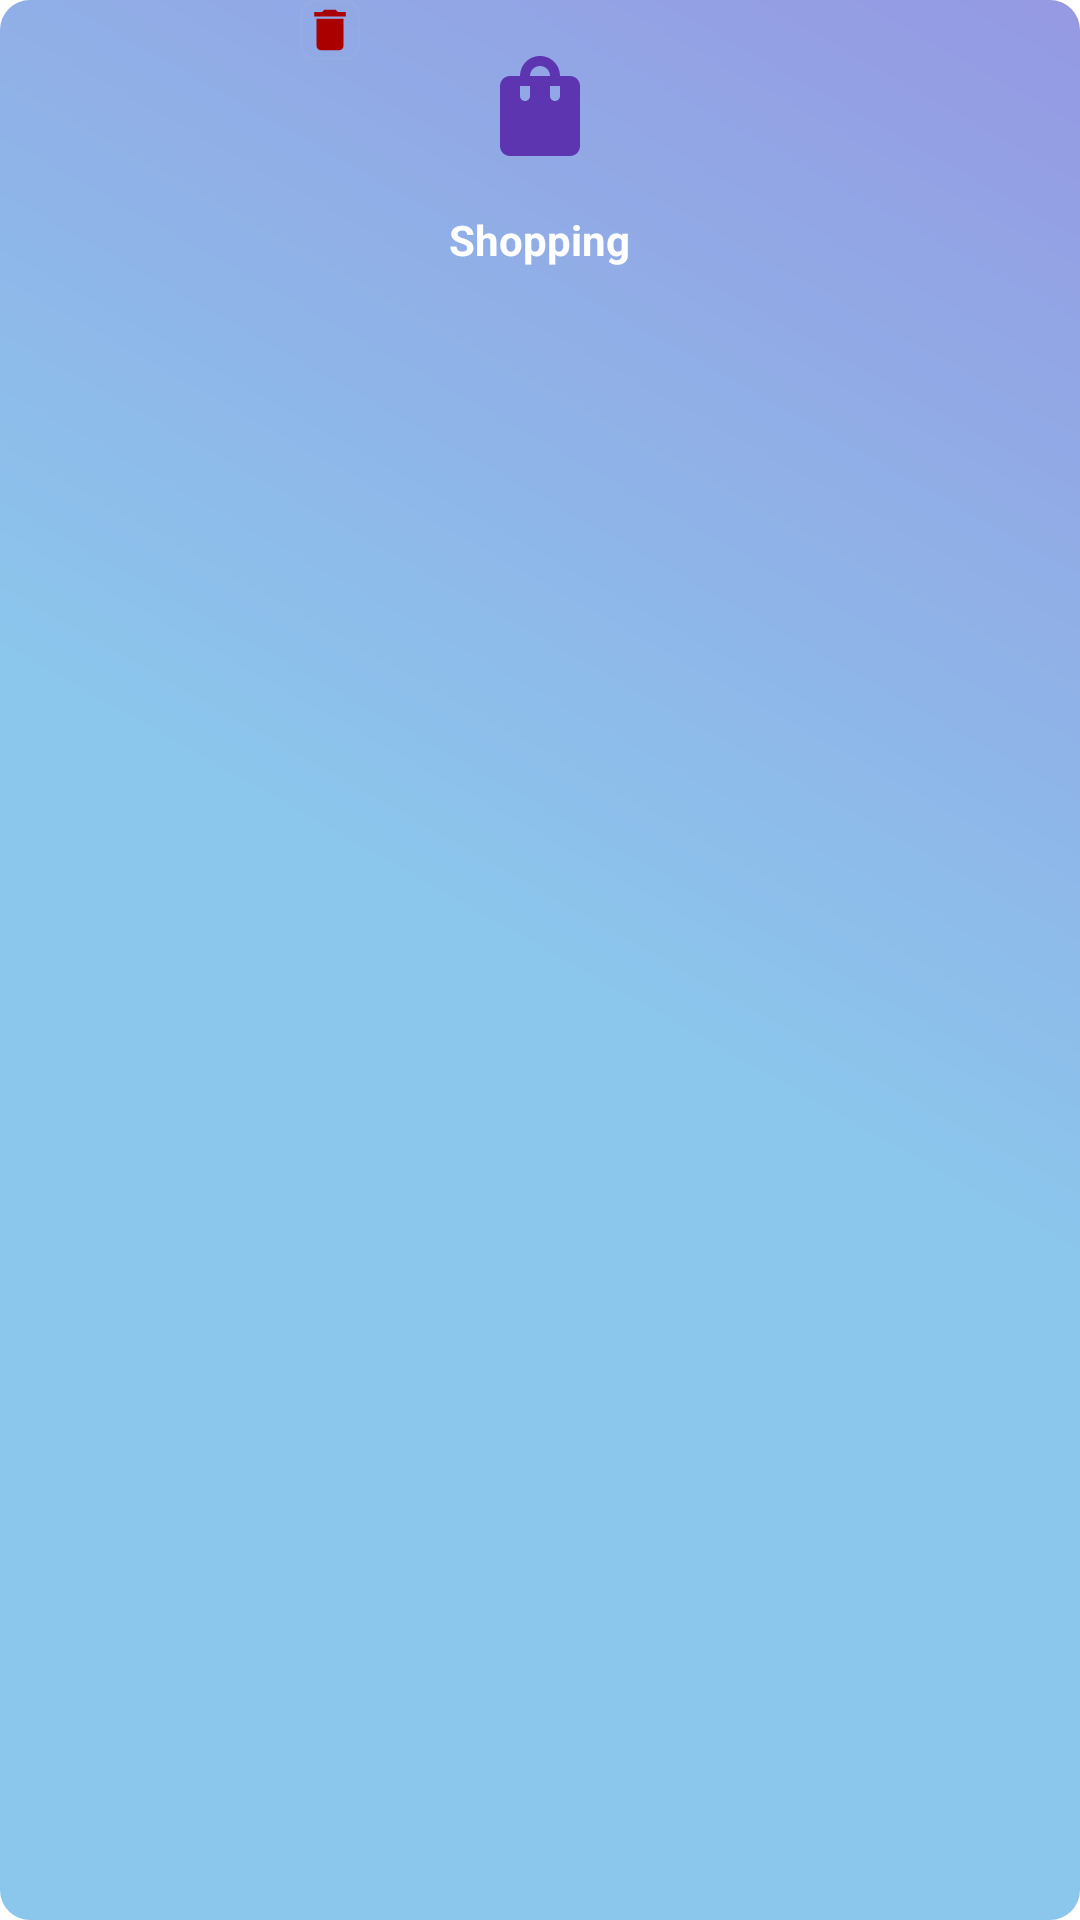

Screen size 1080x1920. Icon name, then its center in pixels as [x,y]:
delete: [330,30]
